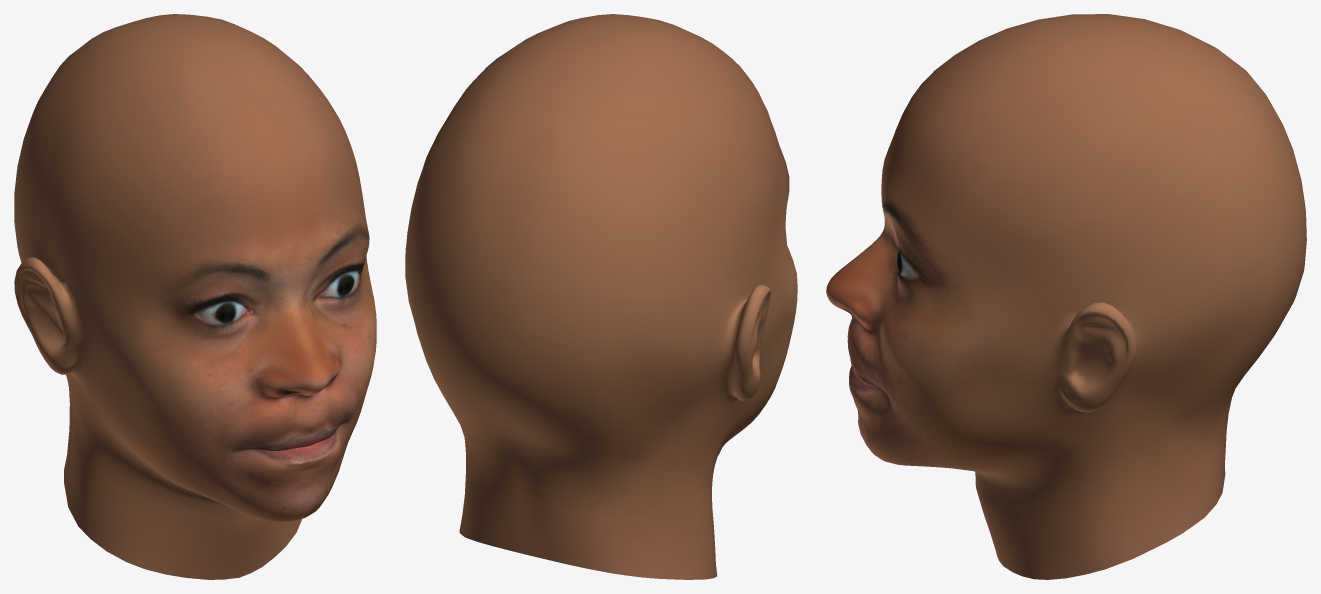
Rendered from v332_obj_ModifierLipPressor(AU24).obj.
3 views of the same model, side by side, from view 1: azimuth 30°, elevation 25°; view 2: azimuth 150°, elevation 25°; view 3: azimuth 270°, elevation 25° (orthographic). The views are drawn at different scales.
Visible parts, largest first — view 1: HeadHires; view 2: HeadHires; view 3: HeadHires.
Part boxes in pixels (x1,y1,x2,y2): HeadHires: (14, 14, 376, 579); HeadHires: (405, 14, 797, 579); HeadHires: (826, 14, 1306, 579).
Size of the model in its own units: 187 by 282 by 233.
